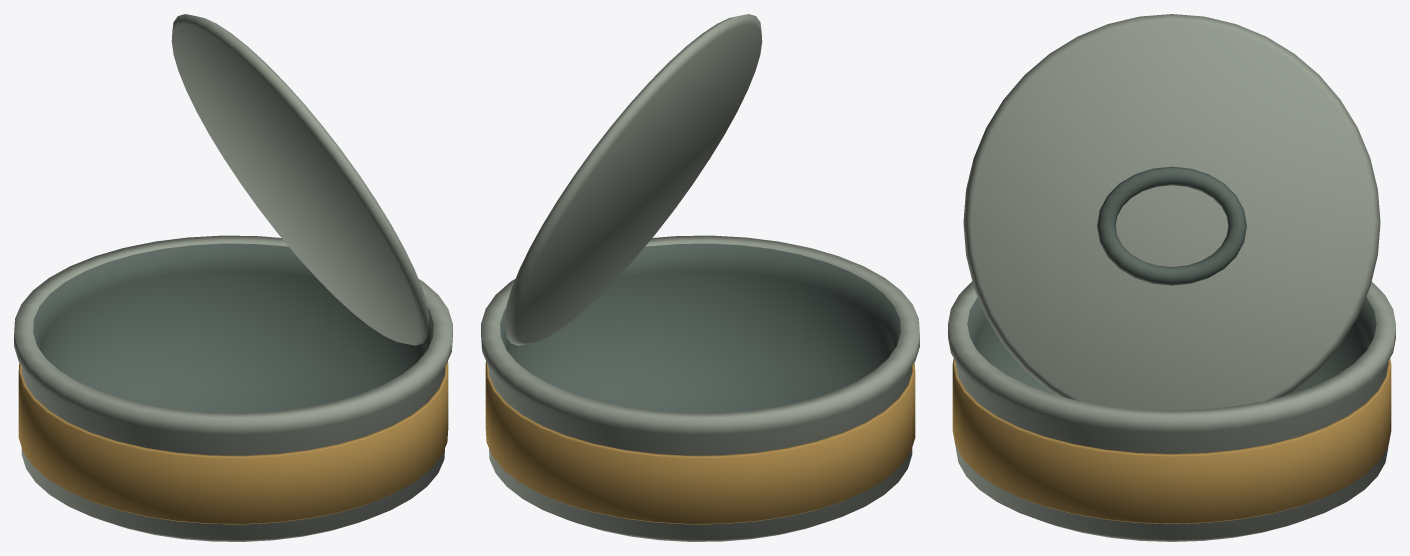
The model's file is open_tuna_tin.glb.
3 views of the same model, side by side, from view 1: azimuth 30°, elevation 25°; view 2: azimuth 150°, elevation 25°; view 3: azimuth 270°, elevation 25° (orthographic).
Parts seen in each view (by area): view 1: PropGeometryGeometry; view 2: PropGeometryGeometry; view 3: PropGeometryGeometry.
Boxes of the visible parts, box(x1,y1,x2,y2) form: PropGeometryGeometry: box(14, 14, 452, 541); PropGeometryGeometry: box(481, 14, 919, 541); PropGeometryGeometry: box(948, 14, 1395, 541).
Size of the model in its own units: 1.16 by 1.26 by 1.16.
